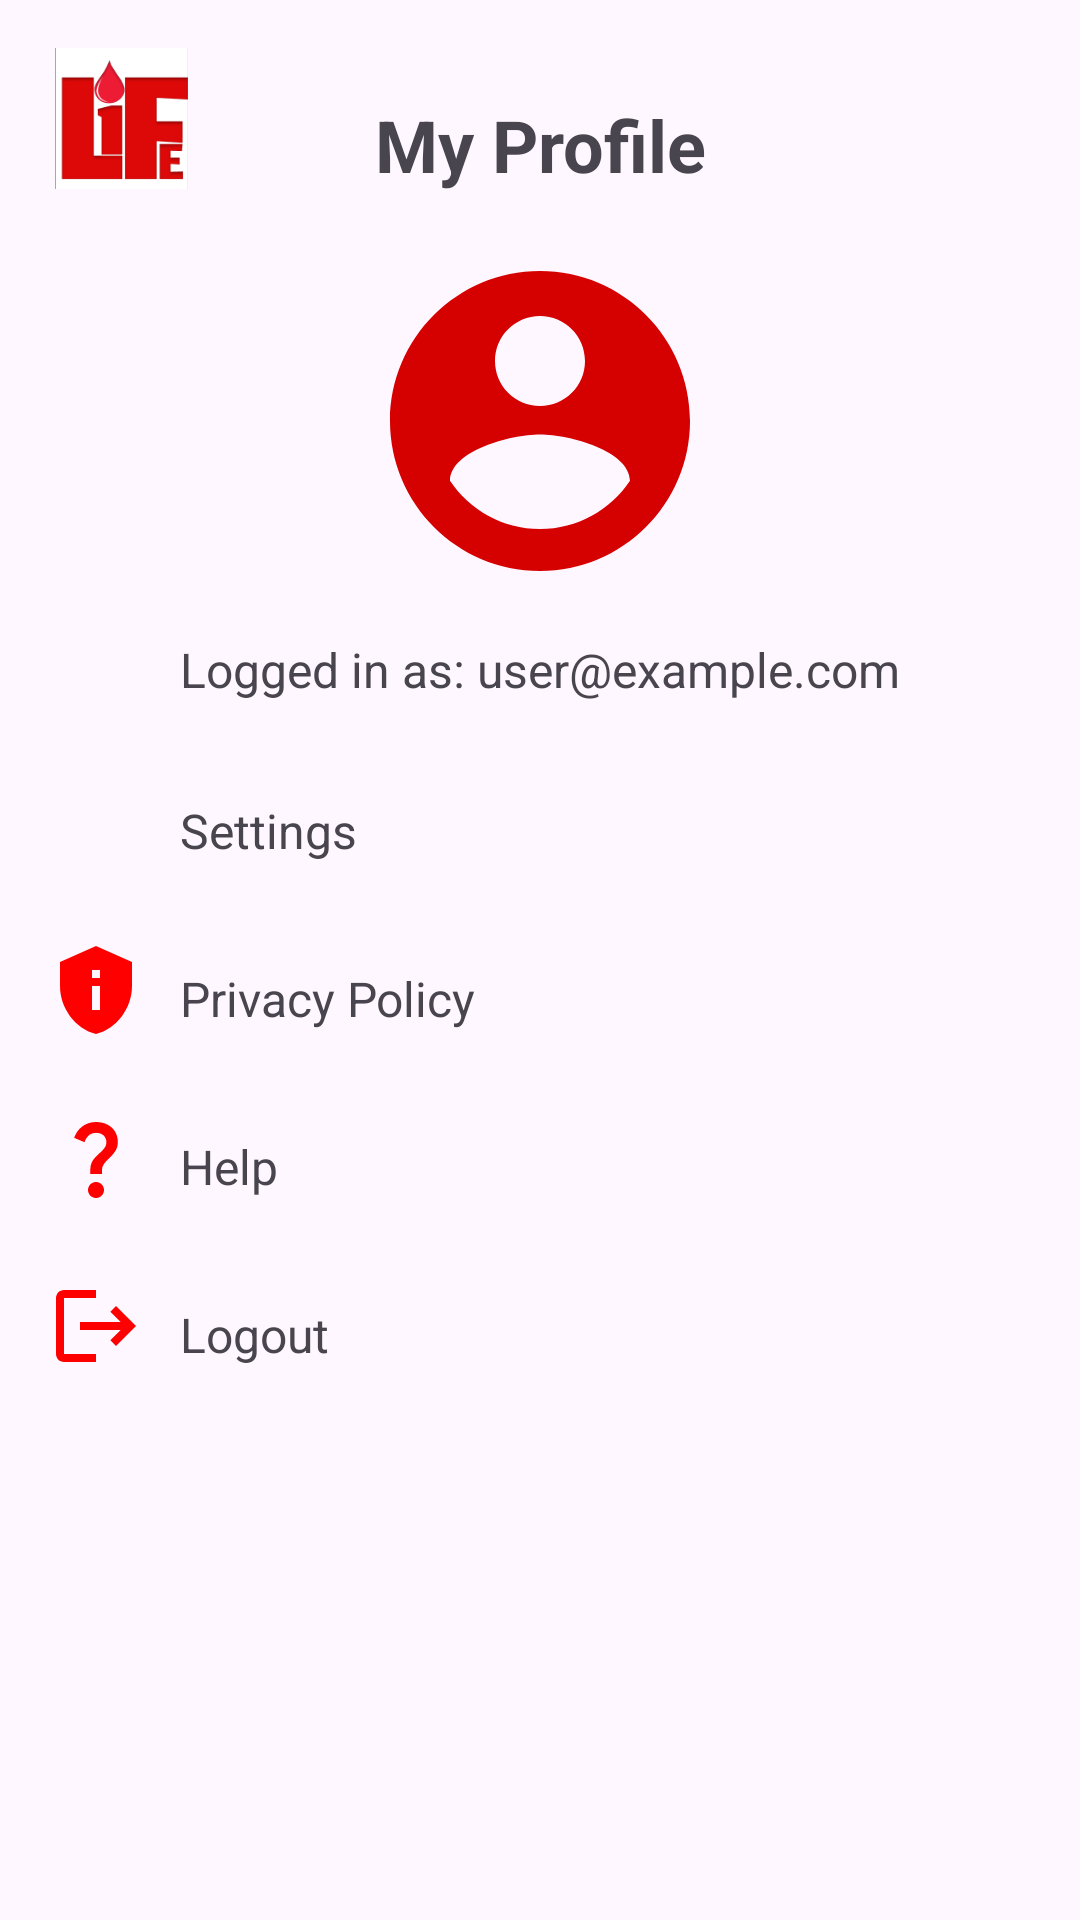

Icons on this 1080×1920 Android screen, each with its box as (x1, y1, x2, y2):
privacy tip: (60, 946, 132, 1034)
question mark: (74, 1122, 118, 1198)
